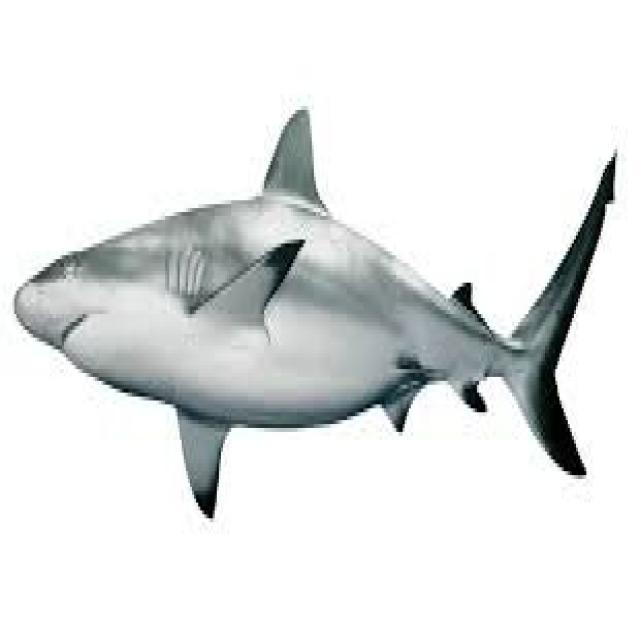shark: (14, 110, 613, 514)
